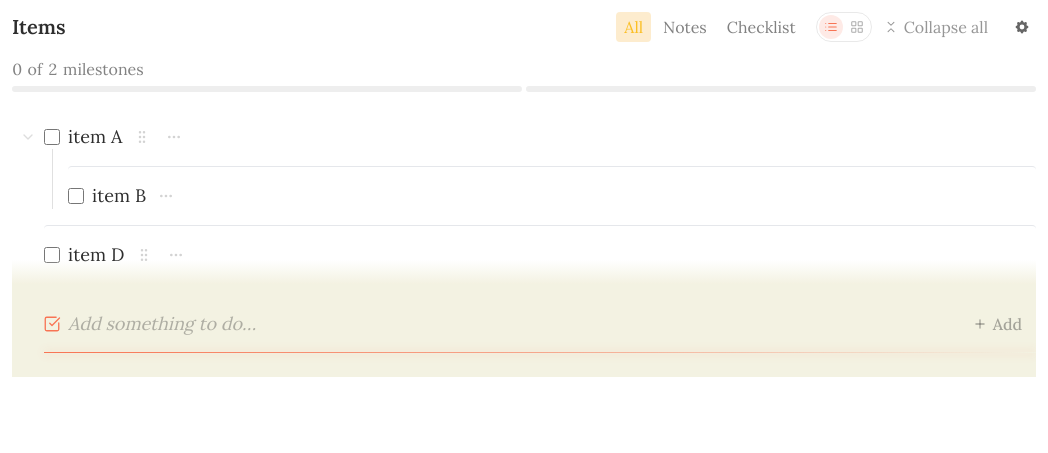
Test: Todo add bar Tab to nest › should create at top level with no parentId when not nested
Expected: the text "item A" is shown, [68,124,122,150]
Type "item E" into the field labelled "Add something to do…". click: (507, 324)
box: [68,308,947,340]
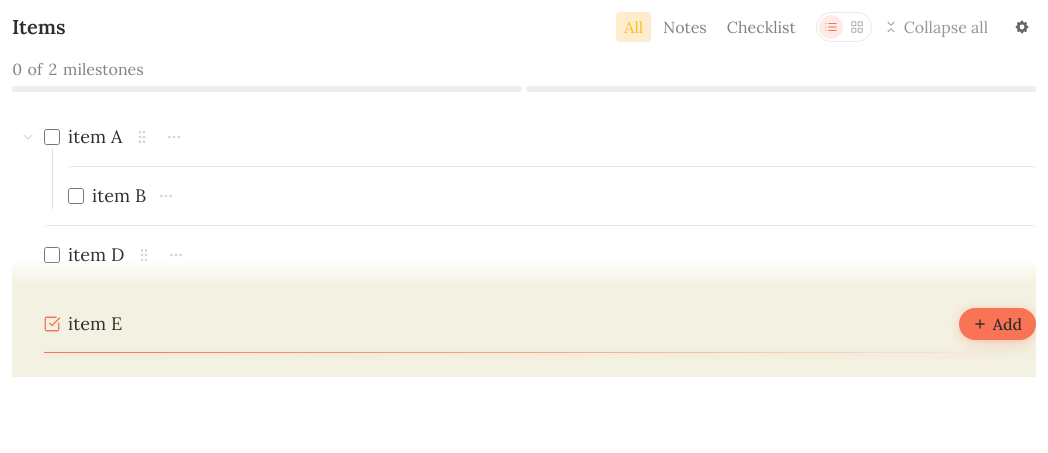
Submit the form "Add", box [36,308,1036,340]
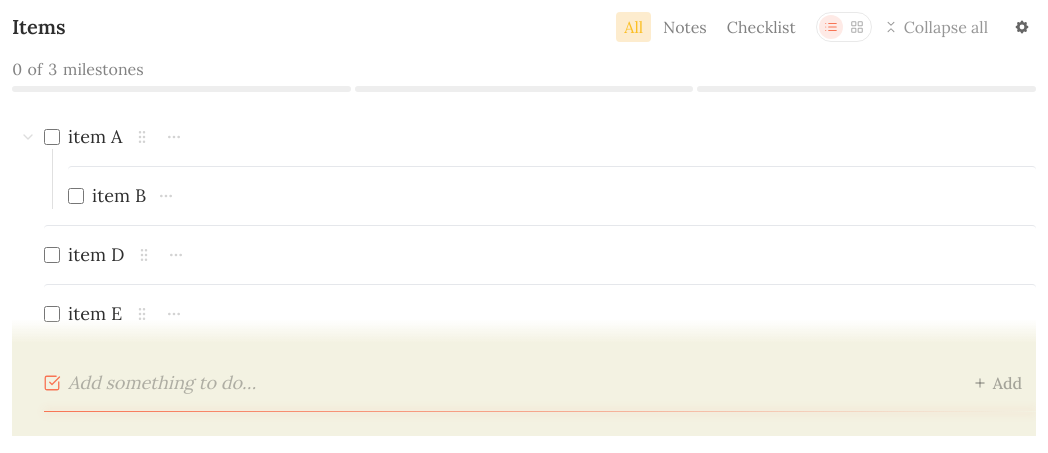
Now the text "item E" is shown, box [68,301,122,327]
